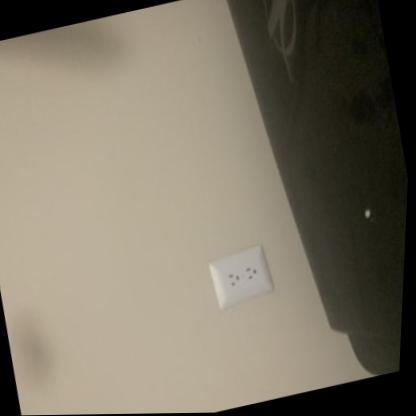OUTLET: (205, 244, 275, 306)
